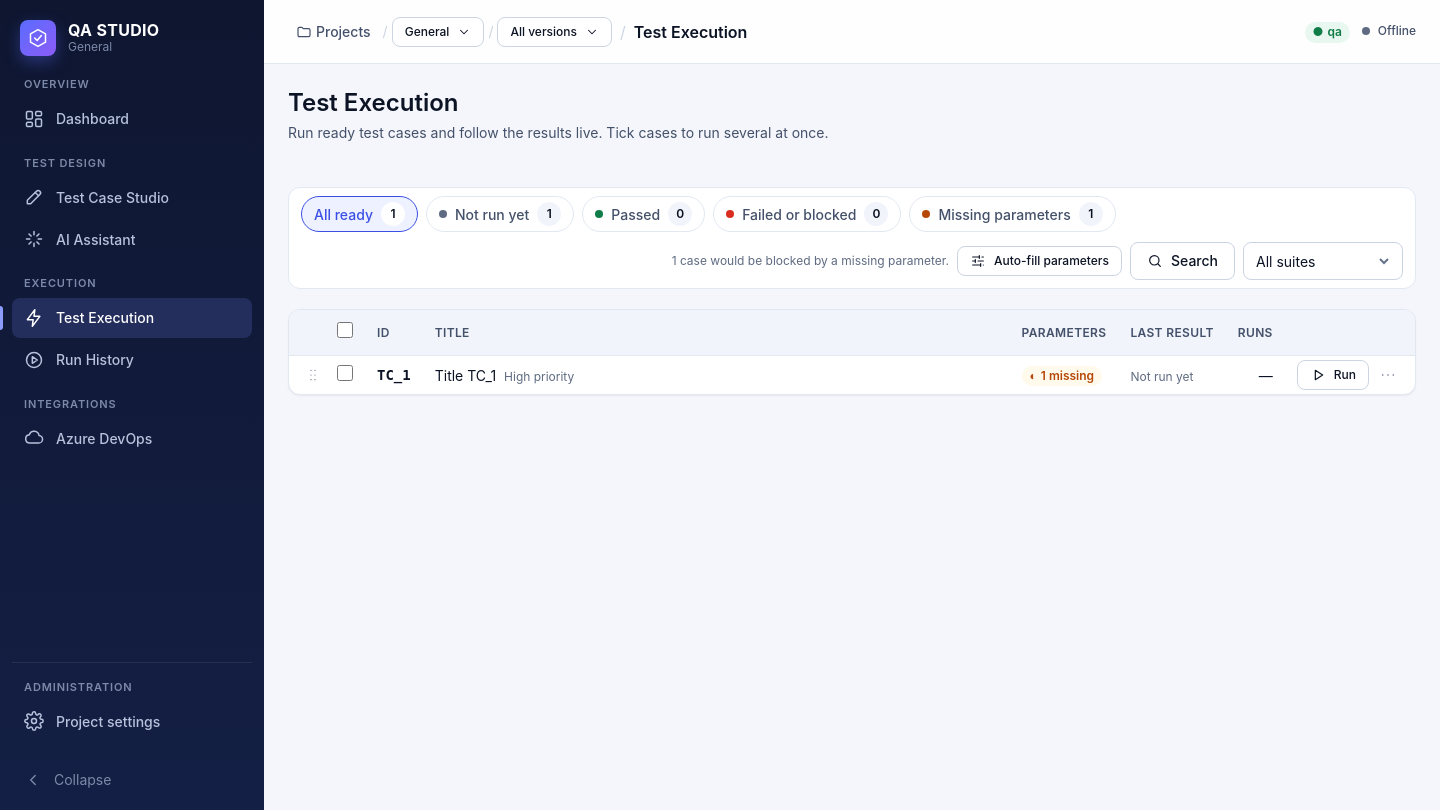
starting a run › makes a long list of users quick to choose from: search, select the ones shown, clear
Click the button with aria-label "Run TC_1".
click(1333, 375)  # box [1297,360,1369,390]
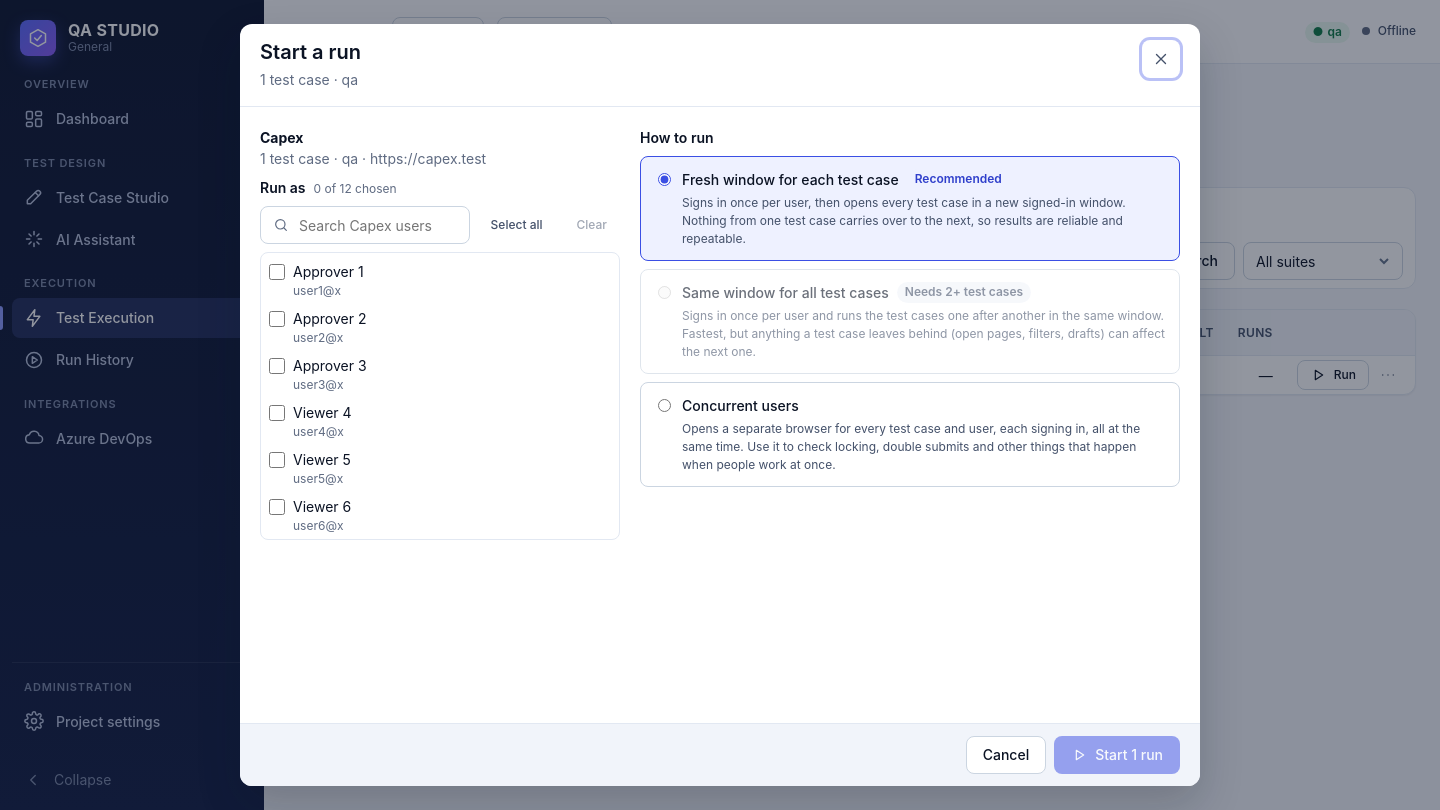
Expected: the text "0 of 12 chosen" is shown, [314,180,397,198]
Type "approver" into the search field labelled "Search Capex users".
click(377, 225); type("approver")  # box [297,214,457,236]
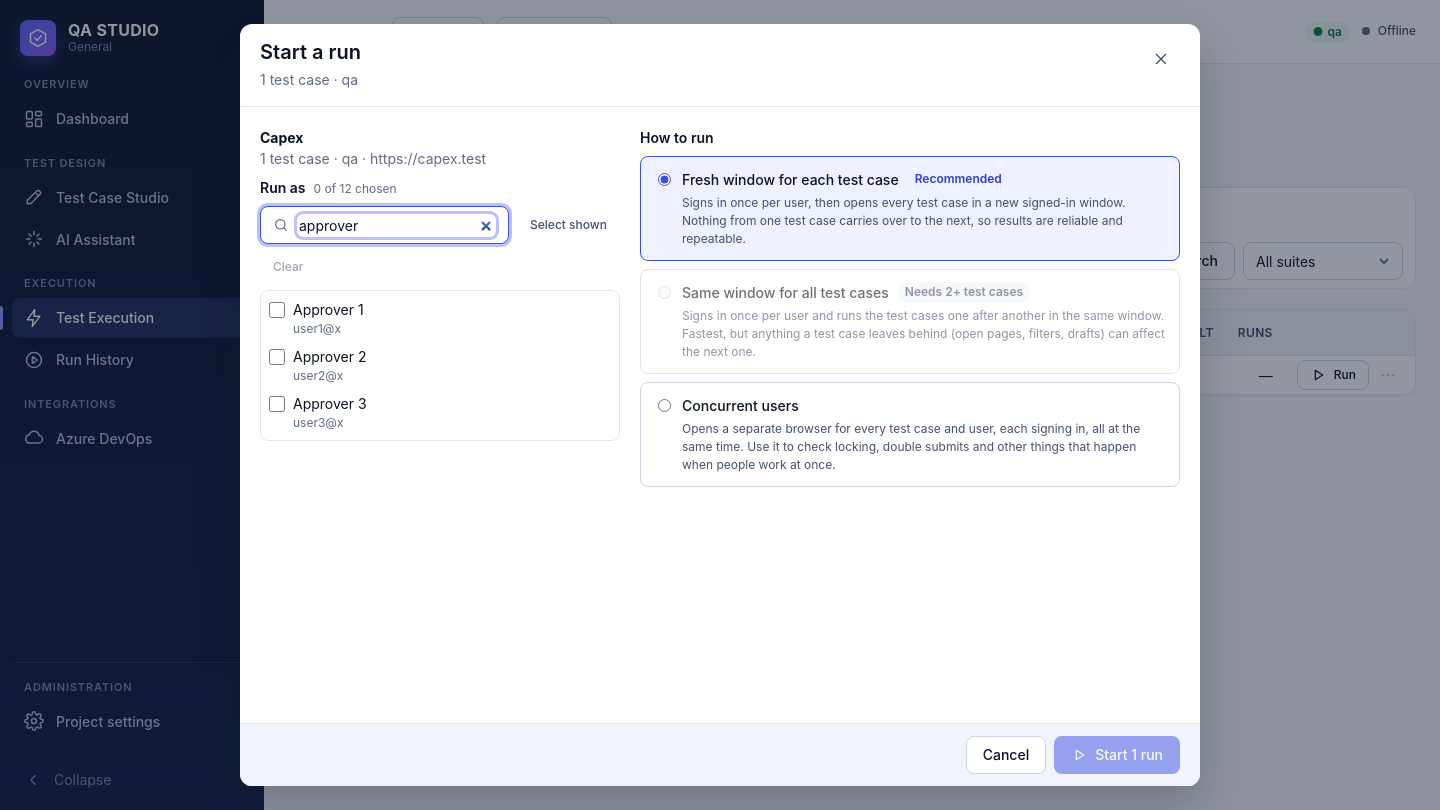
Click the button "Select shown".
click(568, 225)  # box [517,210,620,240]
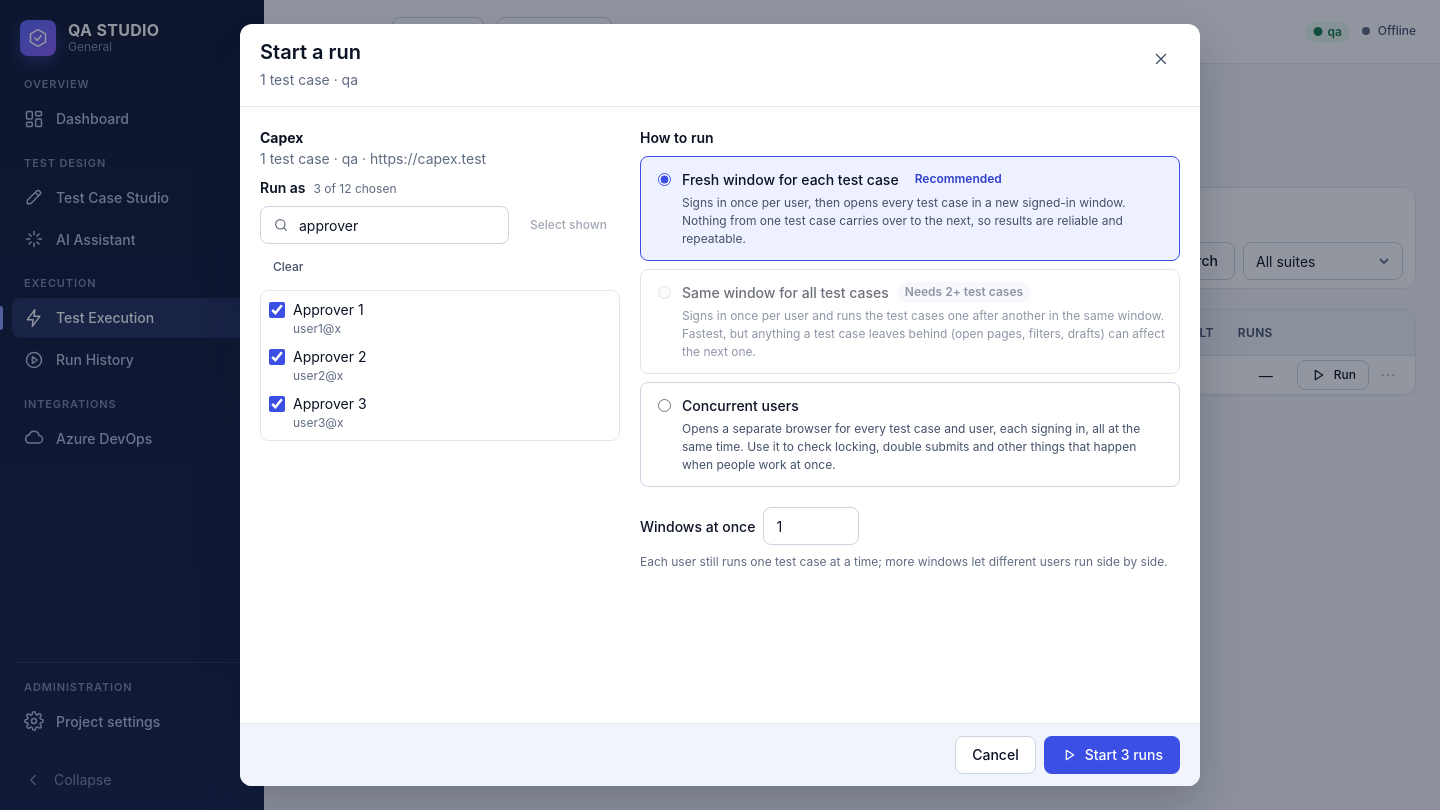
Expected: the text "3 of 12 chosen" is shown, [314,180,396,198]
Expected: the button "Start 3 runs" is enabled, [1044,736,1180,774]
Click the button "Clear".
click(288, 267)  # box [260,252,316,282]
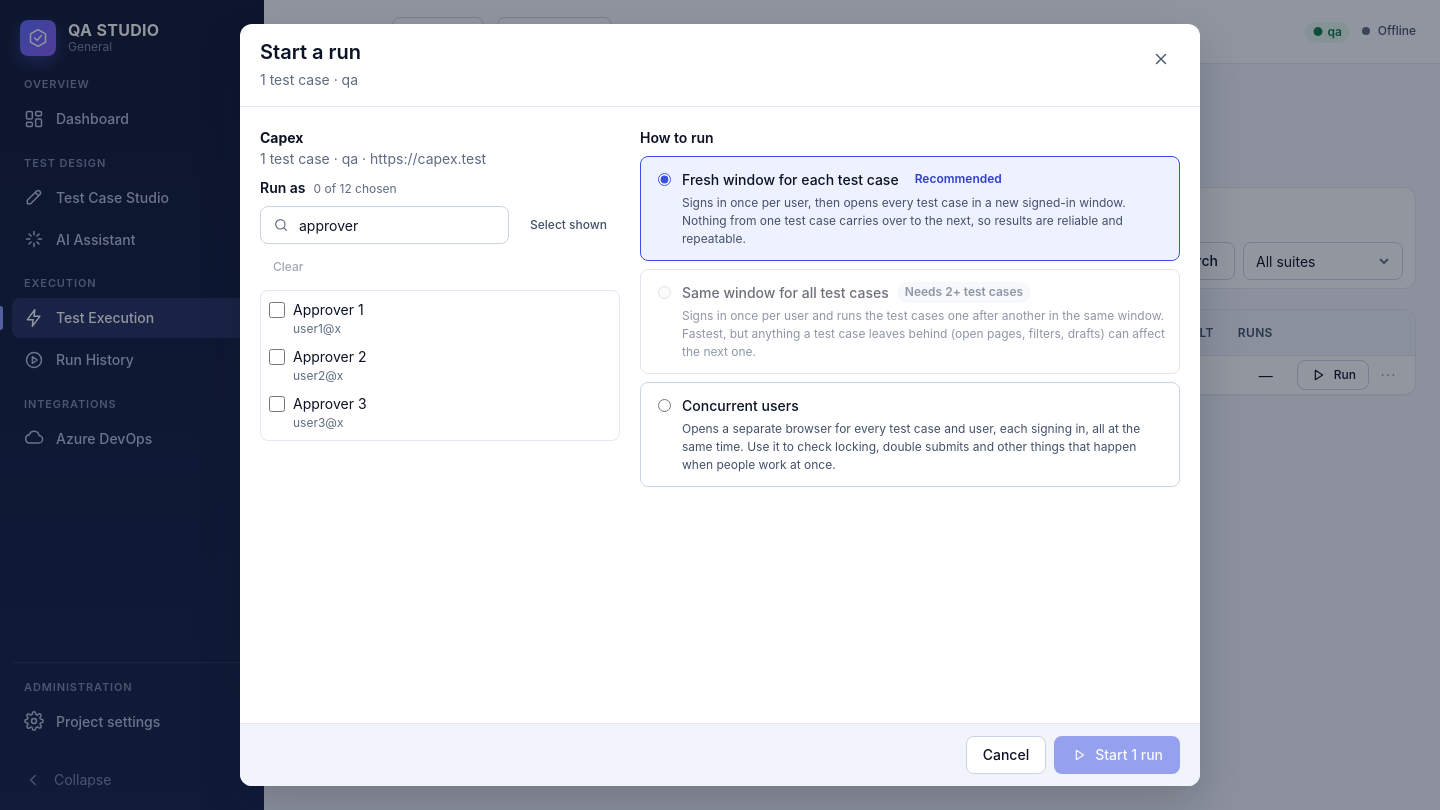
Expected: the text "0 of 12 chosen" is shown, [314,180,397,198]
Clear the search field named "Search Capex users" at {"x": 396, "y": 225}, box [297,214,496,236]
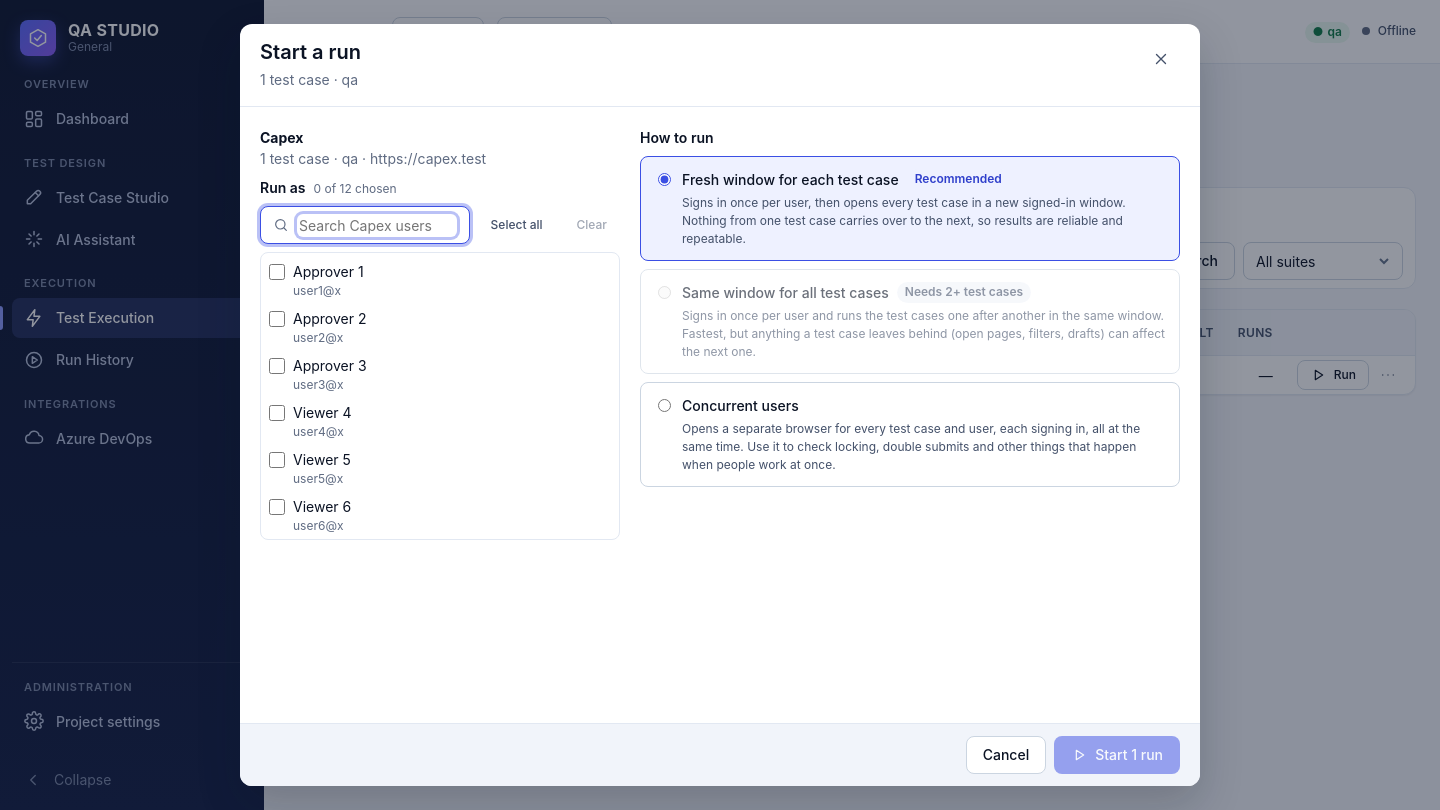
Type "nobody" into the search field labelled "Search Capex users".
click(377, 225); type("nobody")  # box [297,214,457,236]
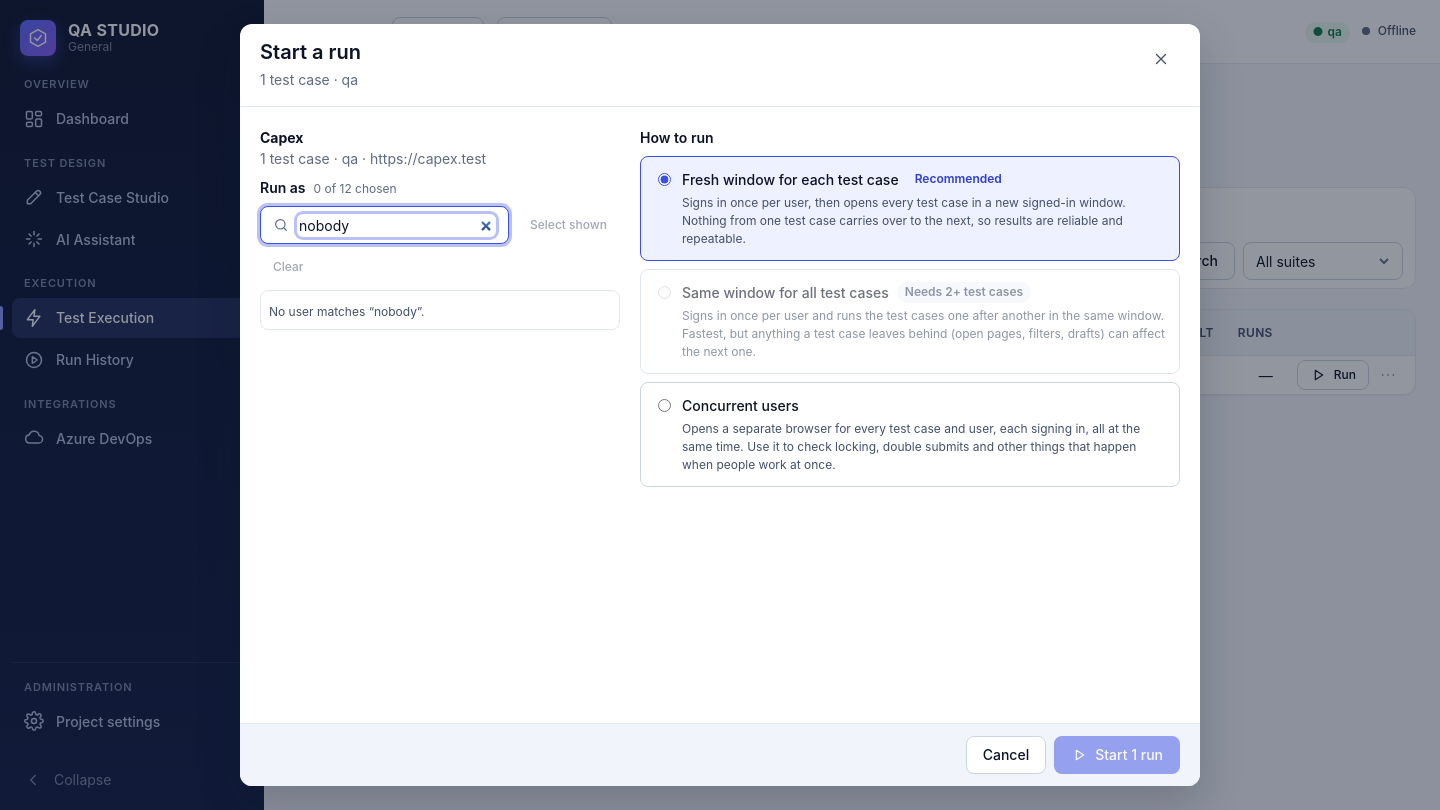
Expected: the text "No user matches “nobody”." is shown, [269,304,424,319]
